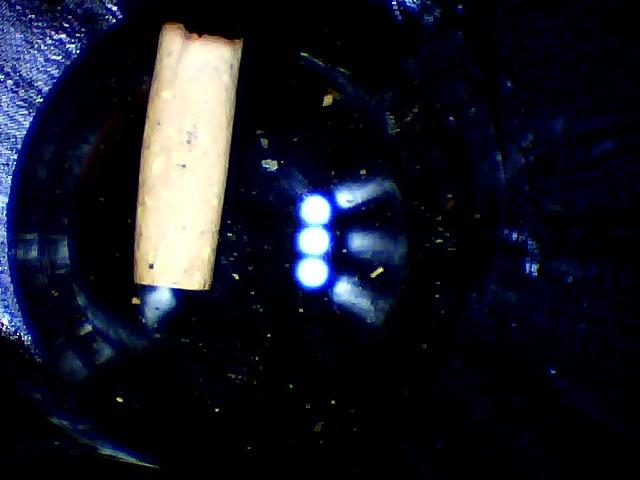megot: (117, 16, 258, 306)
